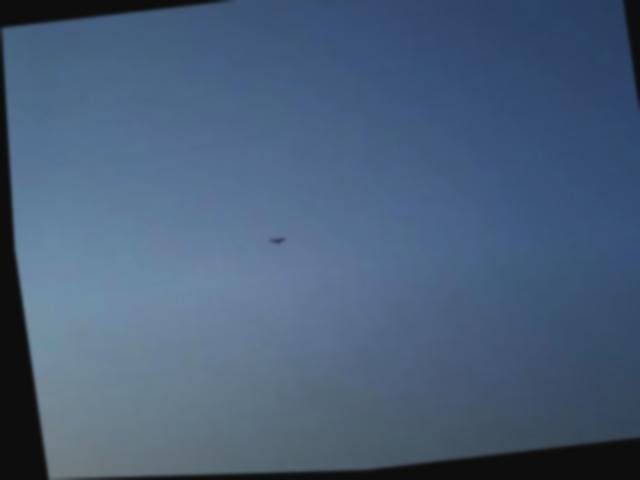iha: (266, 236, 283, 246)
